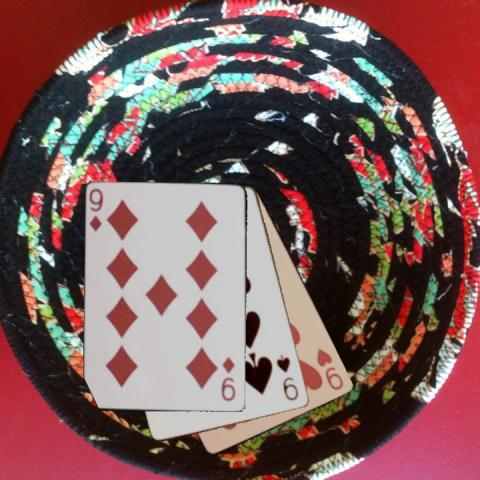9d: (219, 354, 237, 403), (87, 186, 105, 233)
9h: (314, 345, 345, 392)
9s: (273, 352, 301, 402)
